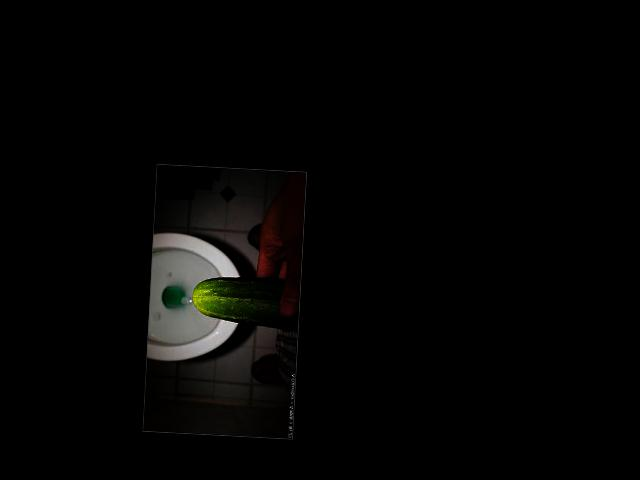cucumber: (191, 274, 302, 330)
